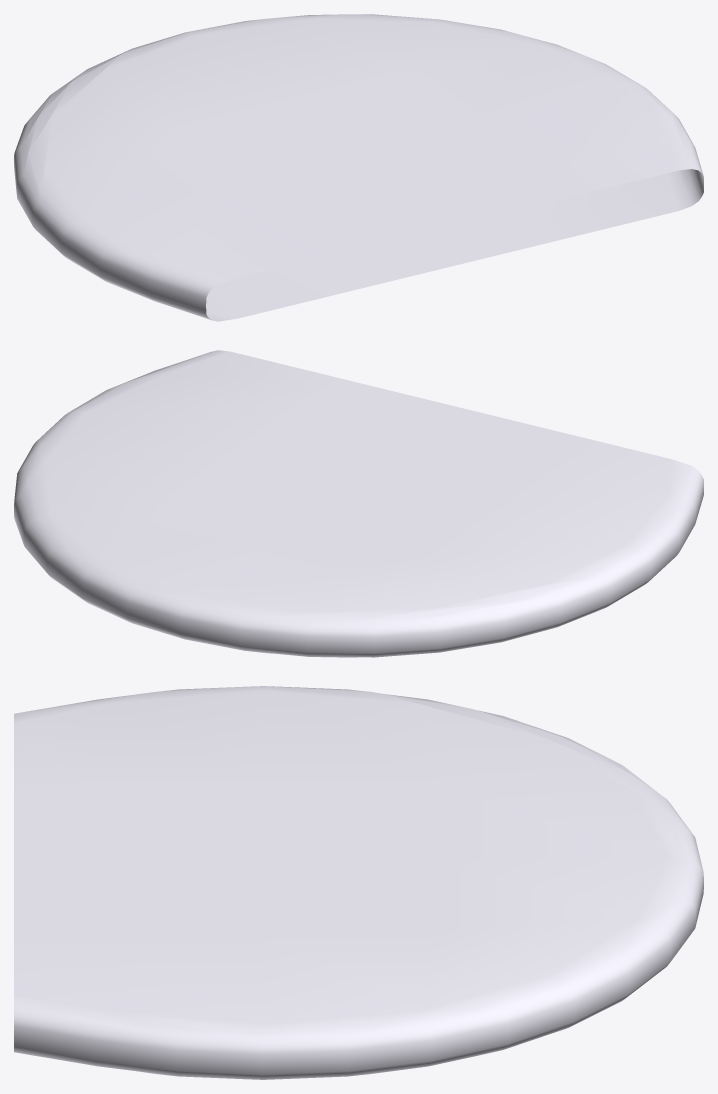
The model's file is Arena (1).fbx.
3 views of the same model, one above another, from view 1: azimuth 30°, elevation 25°; view 2: azimuth 150°, elevation 25°; view 3: azimuth 270°, elevation 25° (orthographic). The views are drawn at different scales.
Visible parts, largest first — view 1: Roundcube.003; view 2: Roundcube.003; view 3: Roundcube.003.
Boxes of the visible parts, <box> form: Roundcube.003: <box>14,14,703,321</box>; Roundcube.003: <box>14,350,703,657</box>; Roundcube.003: <box>14,686,703,1079</box>.
Bounding box in the file's own units: 1279 × 84.3 × 1028.
1 material, 1 textured.
